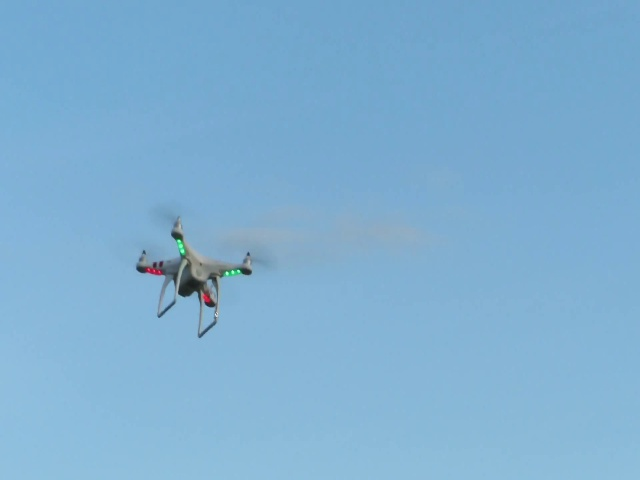drone: (129, 203, 272, 339)
